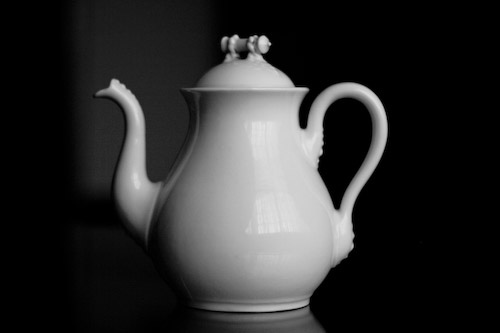teapot: (69, 15, 406, 324)
